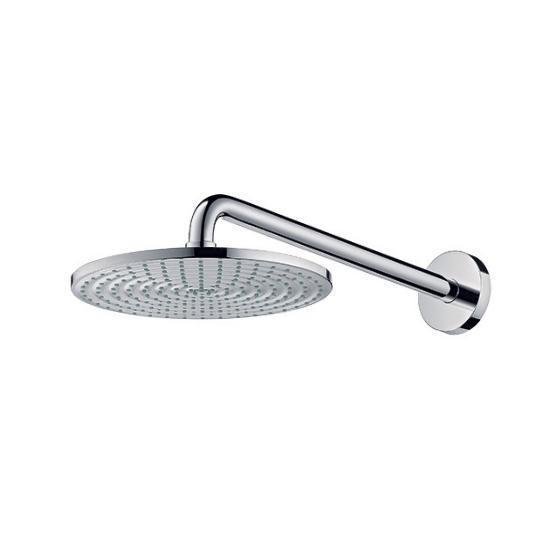Ducha: (62, 176, 501, 339)
